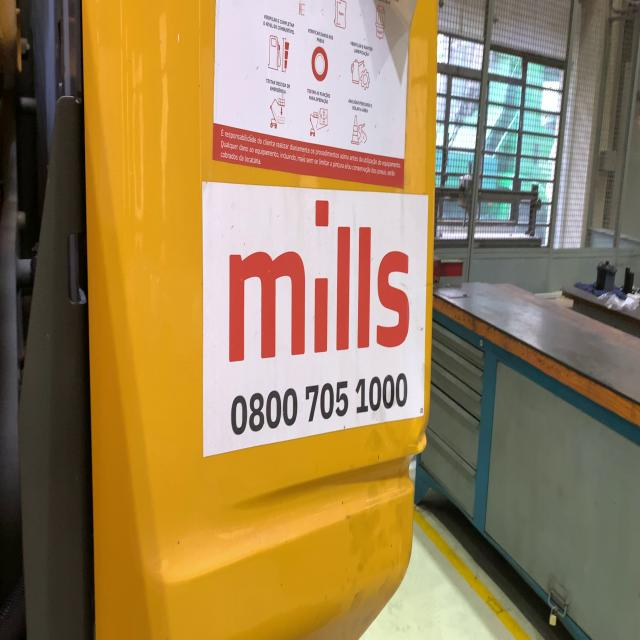Adesivos: (199, 177, 431, 461)
